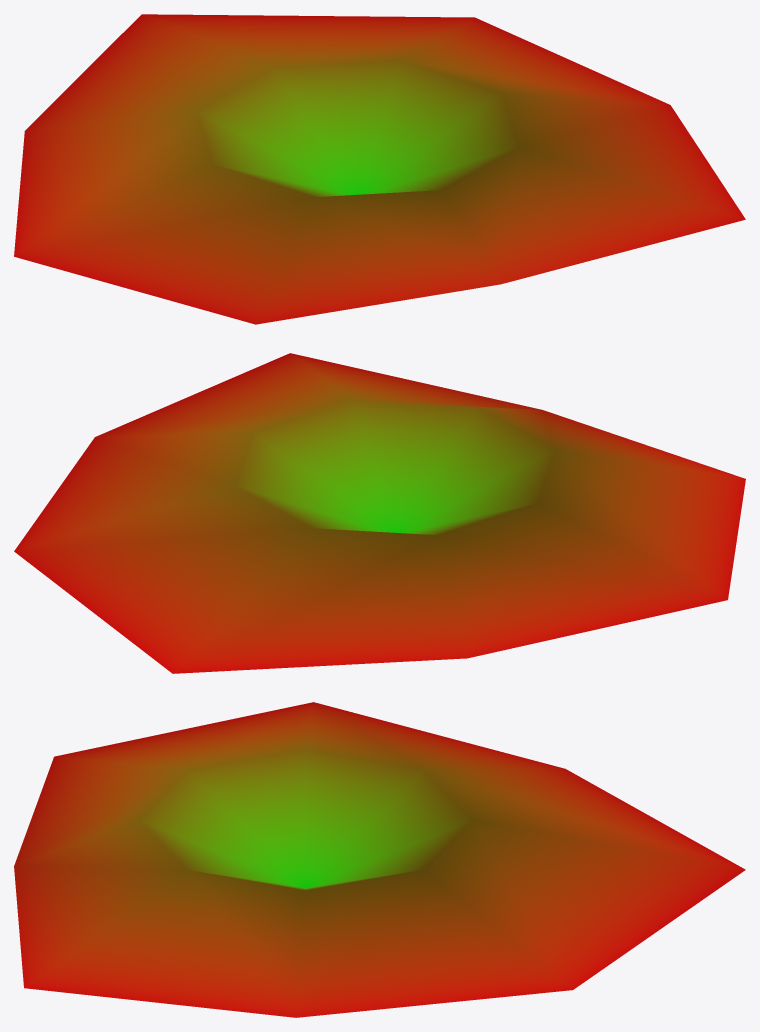
File: Var4_LOD5.fbx
3 renders of one model, top to bottom at view 1: azimuth 30°, elevation 25°; view 2: azimuth 150°, elevation 25°; view 3: azimuth 270°, elevation 25°, orthographic.
Parts seen in each view (by area): view 1: _226d_Var4_LOD5; view 2: _226d_Var4_LOD5; view 3: _226d_Var4_LOD5.
Boxes of the visible parts, x1=… form: _226d_Var4_LOD5: x1=14, y1=14, x2=745, y2=324; _226d_Var4_LOD5: x1=14, y1=353, x2=745, y2=673; _226d_Var4_LOD5: x1=14, y1=702, x2=745, y2=1017.
Size of the model in its own units: 89.87 by 8.98 by 88.05.
